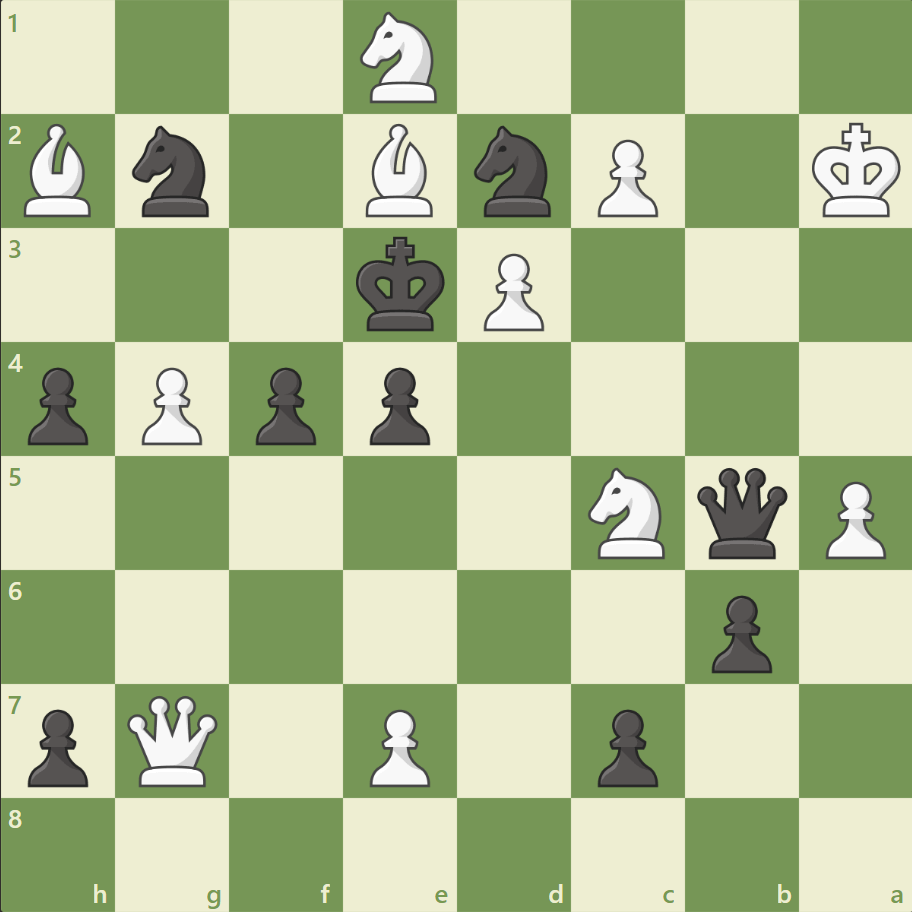B: (358, 120, 442, 222), (17, 120, 101, 222)
K: (806, 117, 906, 225)
N: (351, 7, 449, 110), (579, 461, 676, 564)
P: (133, 359, 208, 450), (474, 246, 549, 337), (361, 700, 435, 791), (815, 473, 889, 564), (588, 132, 662, 223)
Q: (124, 690, 223, 789)
k: (351, 231, 451, 339)
n: (124, 121, 222, 223), (465, 121, 562, 223)
p: (20, 700, 95, 791), (701, 586, 776, 677), (247, 359, 322, 450), (20, 359, 95, 450), (588, 700, 662, 791), (361, 359, 435, 450)
q: (691, 463, 790, 562)
